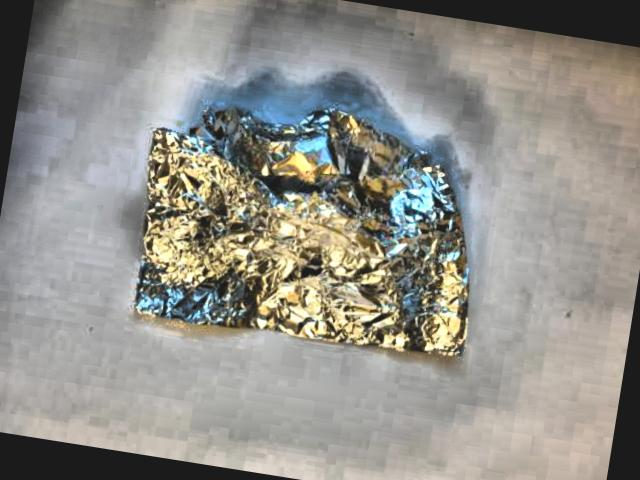Almennt: (94, 76, 512, 396)
